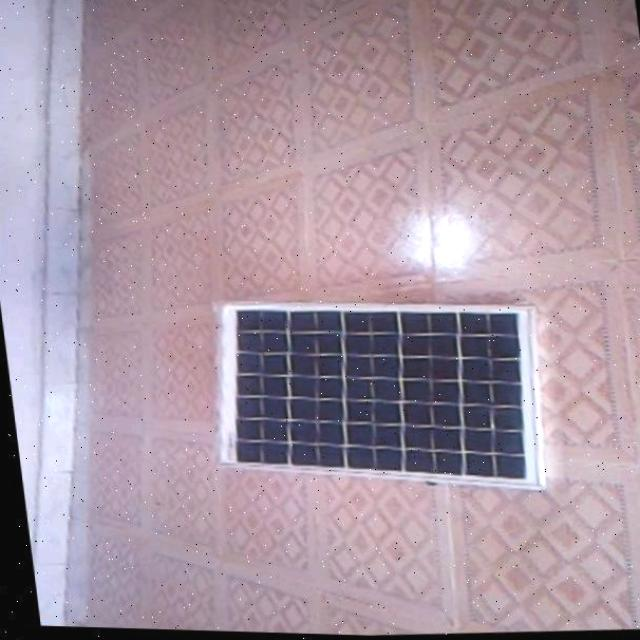Normal Solar Panel: (199, 294, 547, 506)
